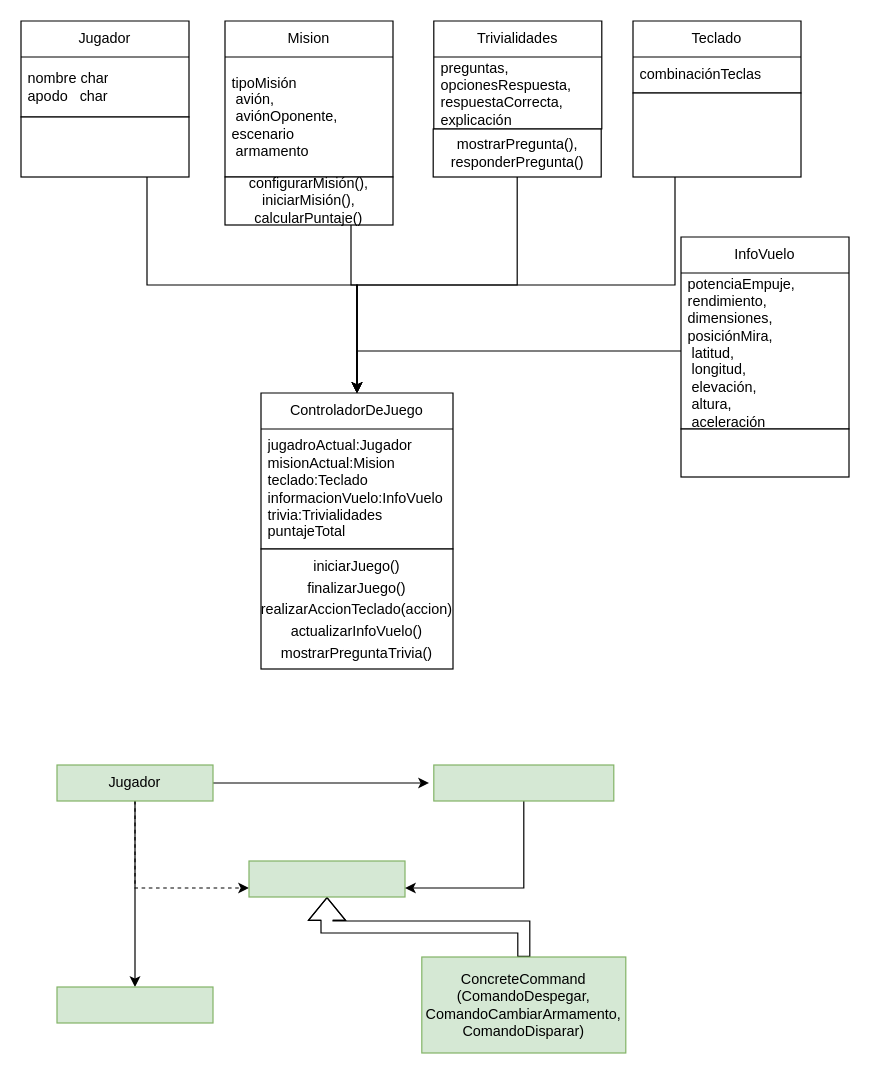
Image size: 870x1074. Some labels were removed from this diagram. The shapes that lost their labels are listed below. From the top down, each one's centre as x and y in pixels, then its label:
At pixel 104 146: "seleccionarMisión(), guardarMisión()".
At pixel 716 134: "asignarTeclas(), despegar(), cambiarArmamento(), disparar(), cambiarVista()".
At pixel 764 452: "actualizarInformación()".
At pixel 523 782: "ControladorDeTeclado".
At pixel 326 878: "Comando".
At pixel 134 1004: "Avión".
